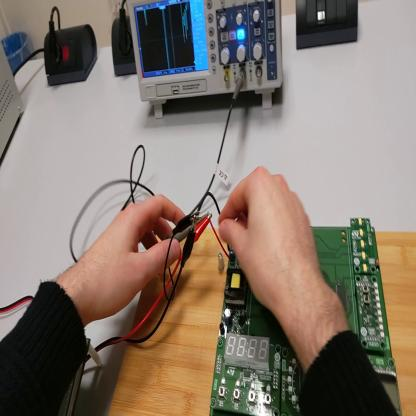hand: (217, 168, 327, 319), (82, 196, 184, 323)
low voltage board: (196, 191, 402, 416)
oscilloscope: (128, 2, 285, 116)
power supply: (2, 34, 26, 164)
socket: (46, 26, 98, 90), (113, 19, 137, 79)
working area: (108, 227, 416, 415)
